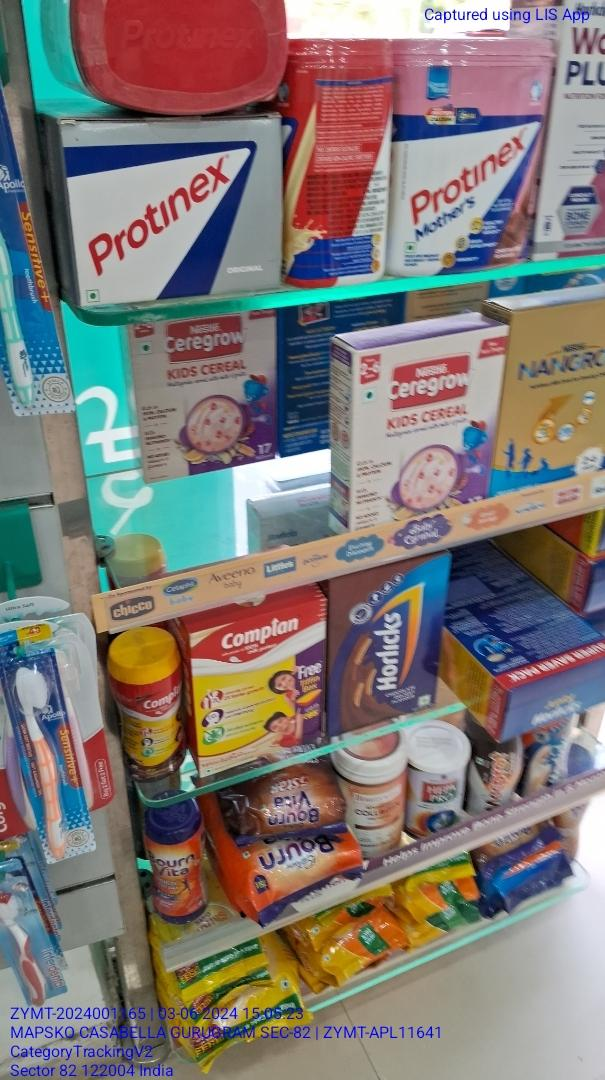BOURN_VITA_500_G_JAR: (148, 812, 212, 926)
COMPLAN_CHOCOLATE_500_GMS_JAR: (113, 656, 190, 780)
COMPLAN_KESAR_BADAM_500_GMS_PACK: (193, 636, 326, 766)
HORLICK_CHOCOLATE_500_G_PACK: (329, 573, 442, 728)
